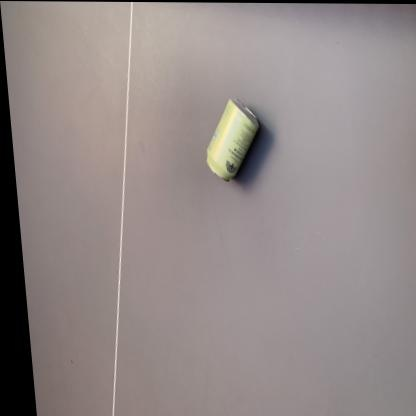trash: (207, 98, 258, 180)
